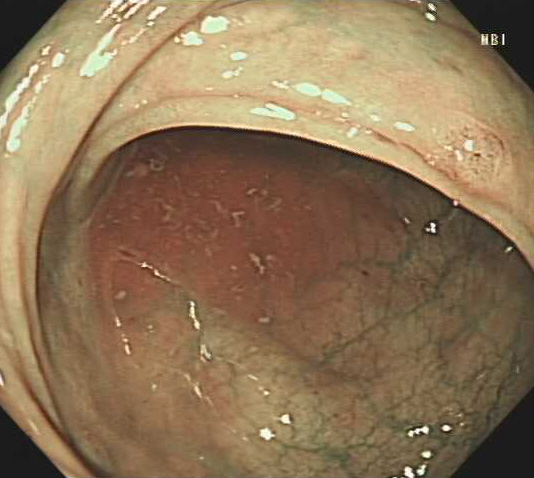others: (416, 115, 518, 190)
